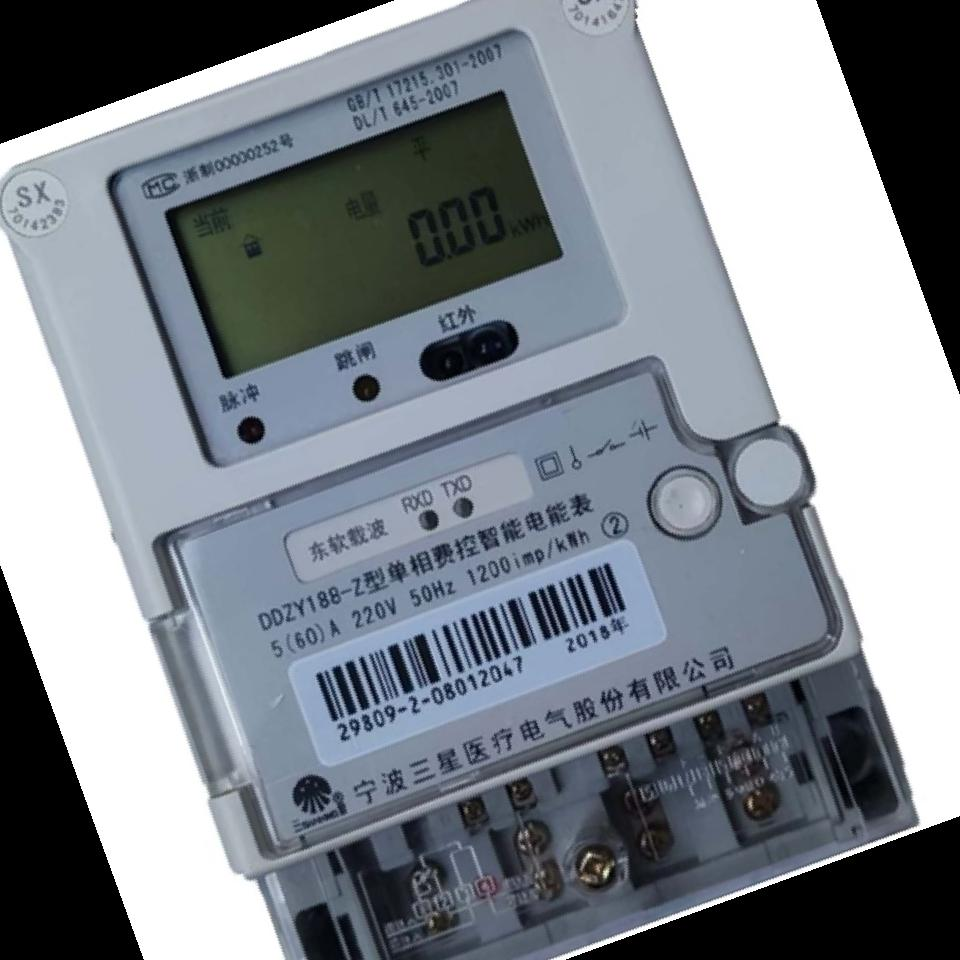digital: (1, 1, 860, 875)
